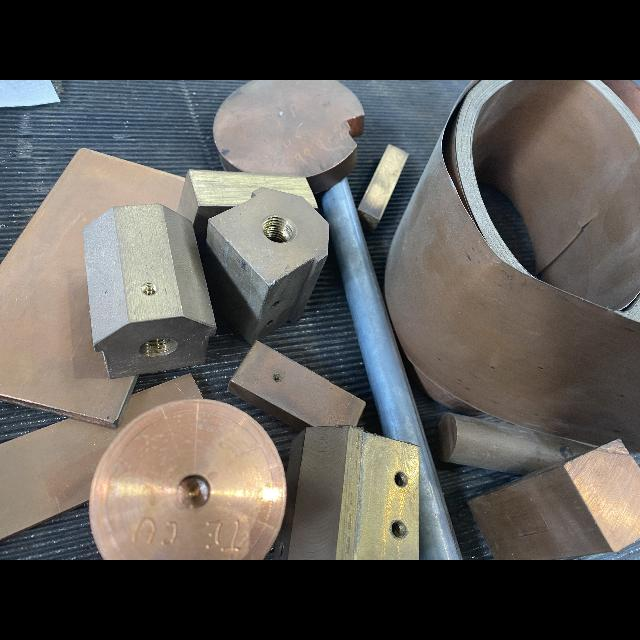Brass: (83, 203, 216, 378), (205, 188, 329, 345), (276, 426, 420, 560), (178, 170, 318, 245), (358, 145, 409, 230)
Copper: (384, 80, 640, 452), (0, 148, 185, 419), (90, 399, 286, 560), (469, 440, 640, 560), (213, 80, 364, 193), (0, 419, 120, 538), (228, 341, 365, 431), (439, 413, 595, 473), (120, 374, 201, 427)
Galvanized Steel: (321, 177, 462, 560)
